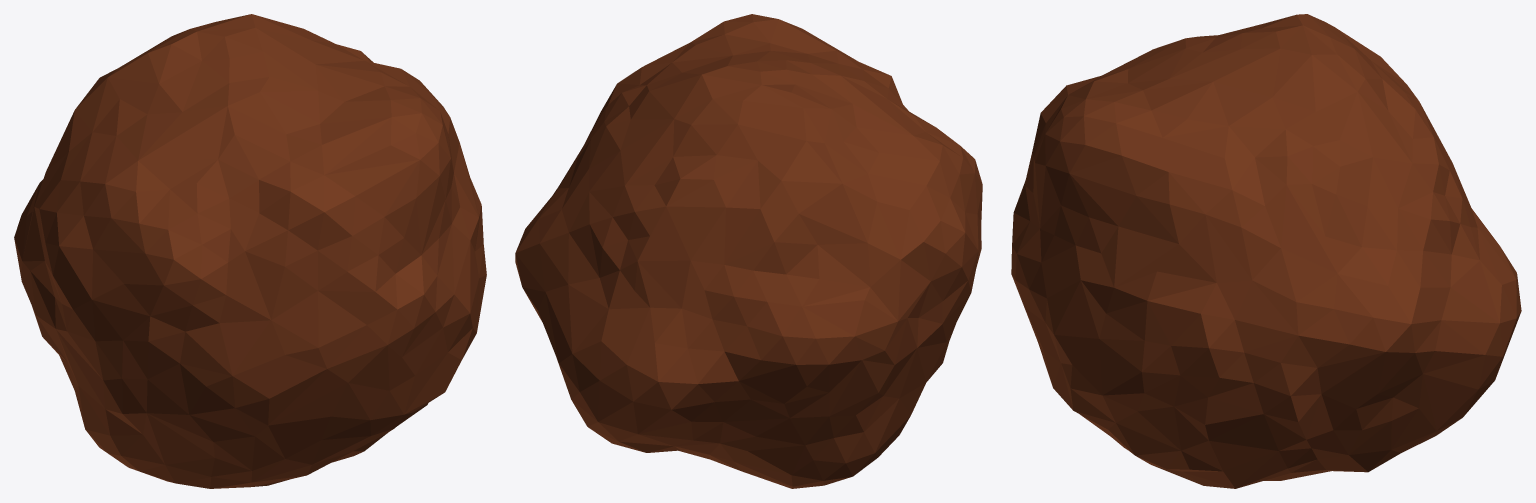
Rendered from tierra.glb.
3 views of the same model, side by side, from view 1: azimuth 30°, elevation 25°; view 2: azimuth 150°, elevation 25°; view 3: azimuth 270°, elevation 25° (orthographic). The views are drawn at different scales.
Parts seen in each view (by area): view 1: Icosphere; view 2: Icosphere; view 3: Icosphere.
Boxes of the visible parts, x1=… form: Icosphere: x1=14, y1=14, x2=486, y2=488; Icosphere: x1=515, y1=14, x2=982, y2=488; Icosphere: x1=1011, y1=14, x2=1521, y2=488.
Bounding box in the file's own units: 2.47 × 2.43 × 2.6.
